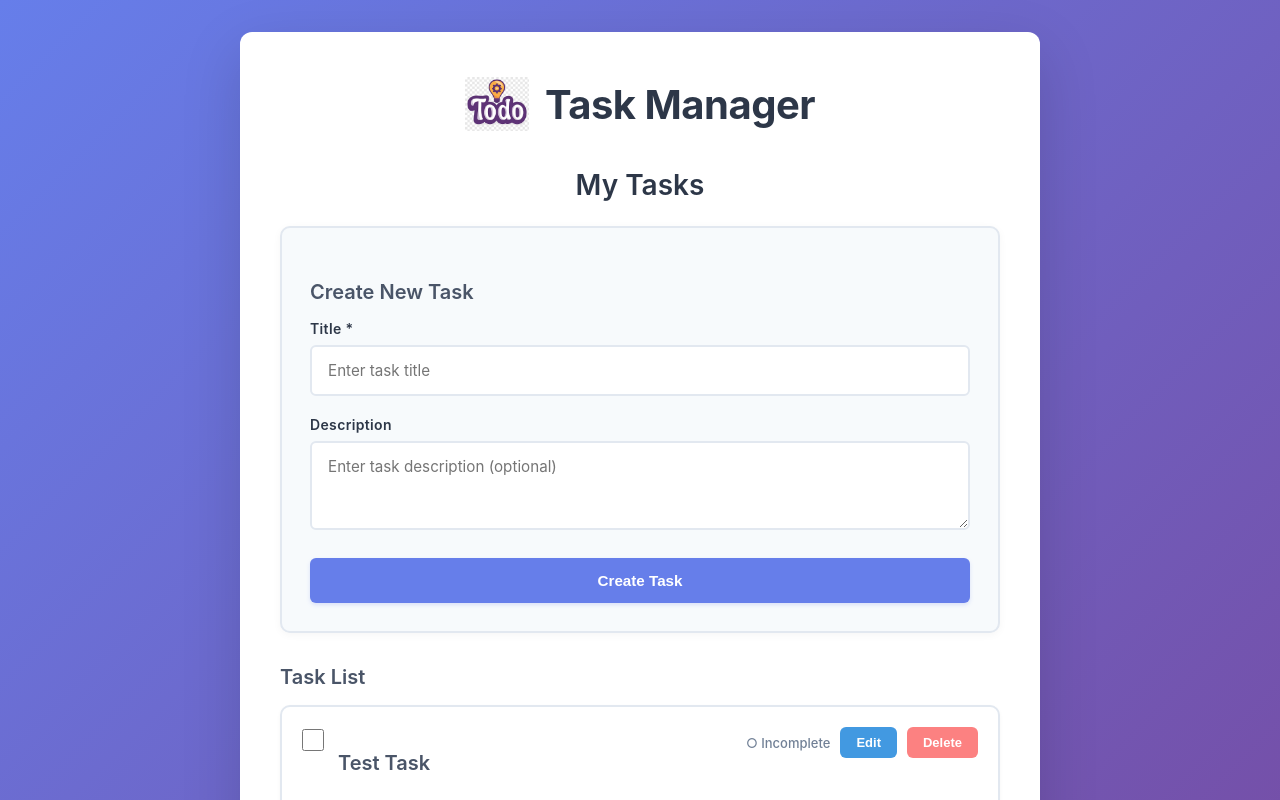
Test: App Component › Integration Tests - Complete User Flows › Loading States › should disable buttons during operations
expect the heading "Test Task" is shown: met, box [338,751,430,775]
Note: Start delete operation
Click the button named "delete task \"test task\"" at (942, 742), box [907,727,978,758]
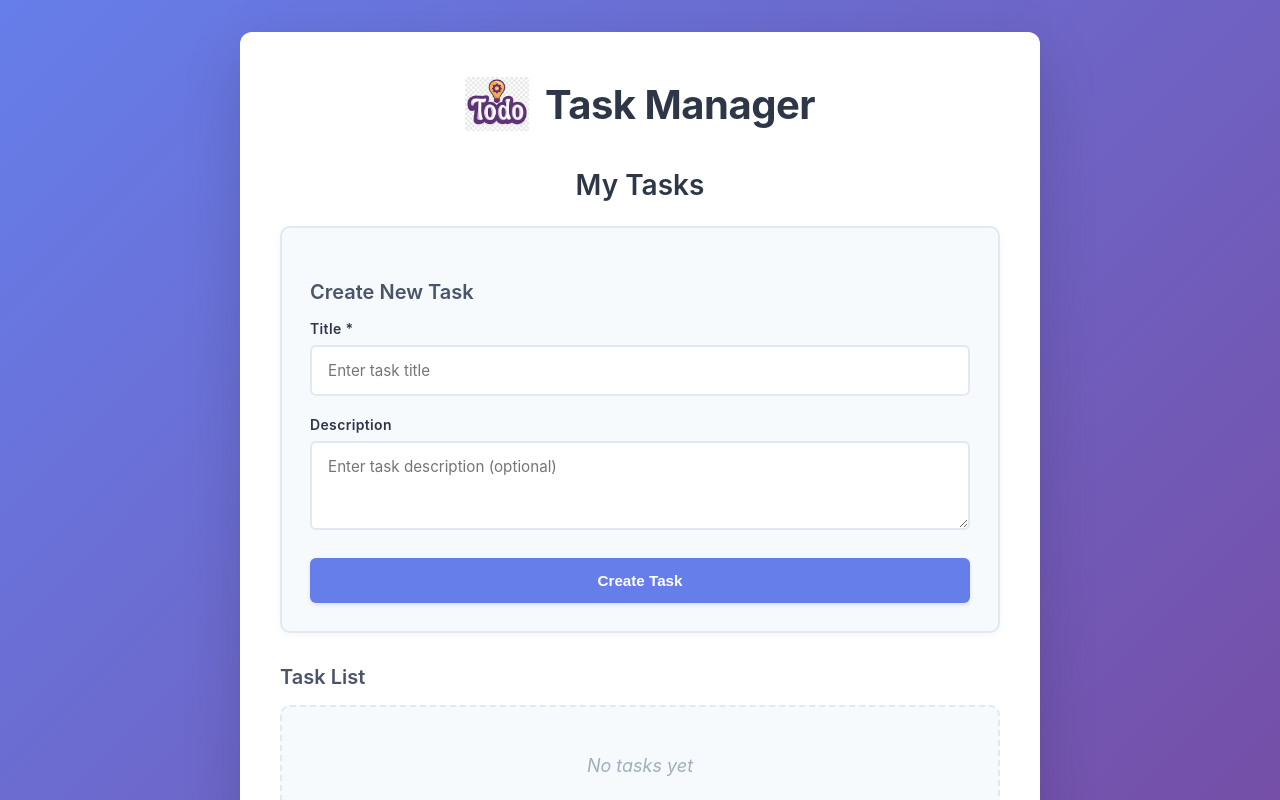
expect the heading "Test Task" is gone: met
